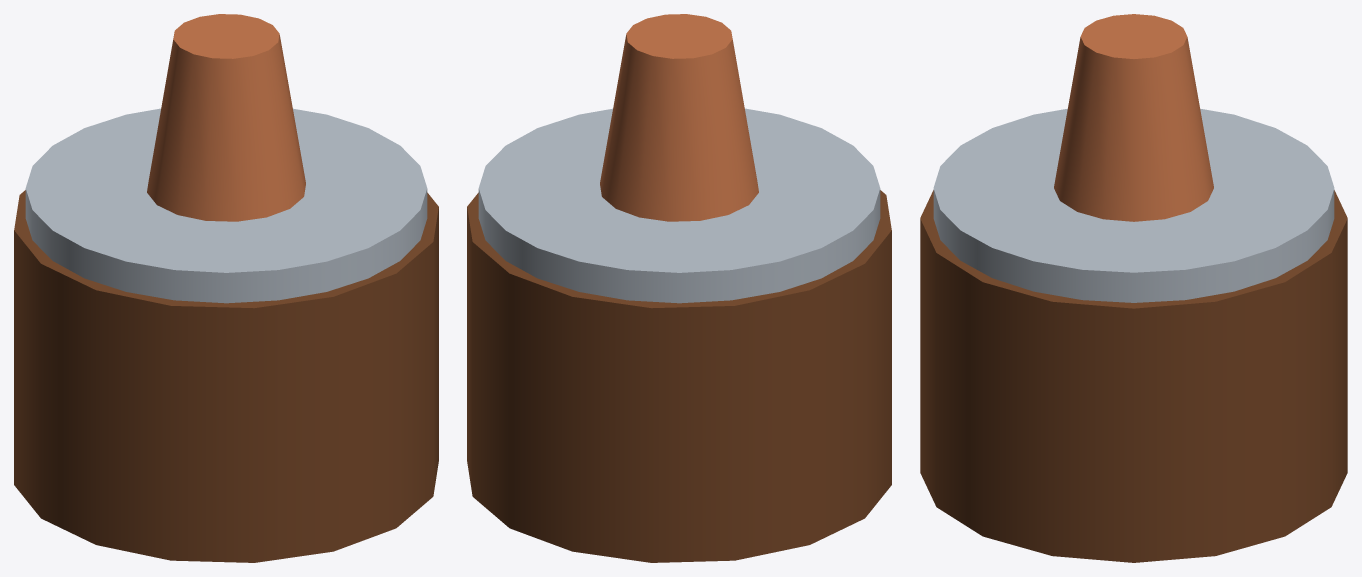
Rendered from potter_wheel.glb.
3 views of the same model, side by side, from view 1: azimuth 30°, elevation 25°; view 2: azimuth 150°, elevation 25°; view 3: azimuth 270°, elevation 25° (orthographic).
Parts seen in each view (by area): view 1: Base, Plate, Clay; view 2: Base, Plate, Clay; view 3: Base, Plate, Clay.
Part boxes in pixels (bbox=[...]): Base: bbox=[14, 190, 438, 562]; Plate: bbox=[25, 108, 427, 303]; Clay: bbox=[147, 14, 305, 221]; Base: bbox=[467, 190, 891, 562]; Plate: bbox=[478, 108, 880, 303]; Clay: bbox=[600, 14, 758, 221]; Base: bbox=[920, 190, 1347, 562]; Plate: bbox=[933, 108, 1334, 302]; Clay: bbox=[1054, 14, 1213, 221].
Bounding box in the file's own units: 0.64 × 0.72 × 0.64.
